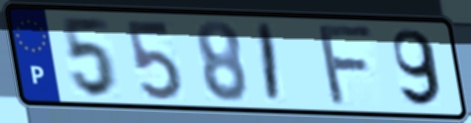5: (56, 14, 122, 100), (122, 16, 187, 102)
8: (194, 19, 252, 105)
9: (390, 27, 444, 110)
F: (316, 24, 379, 108)
I: (256, 21, 282, 106)
